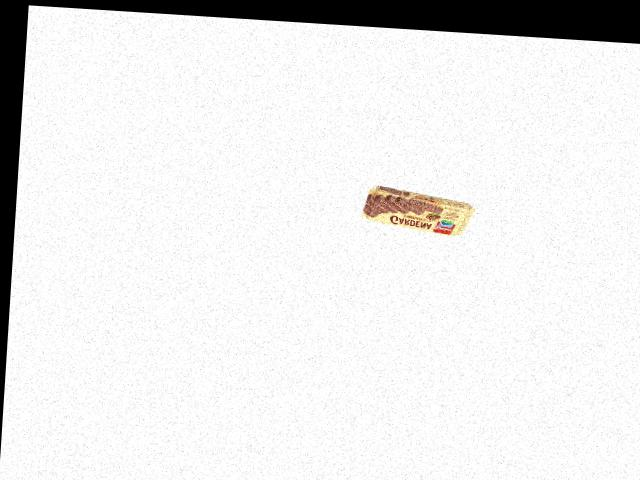chocolate: (354, 188, 480, 239)
